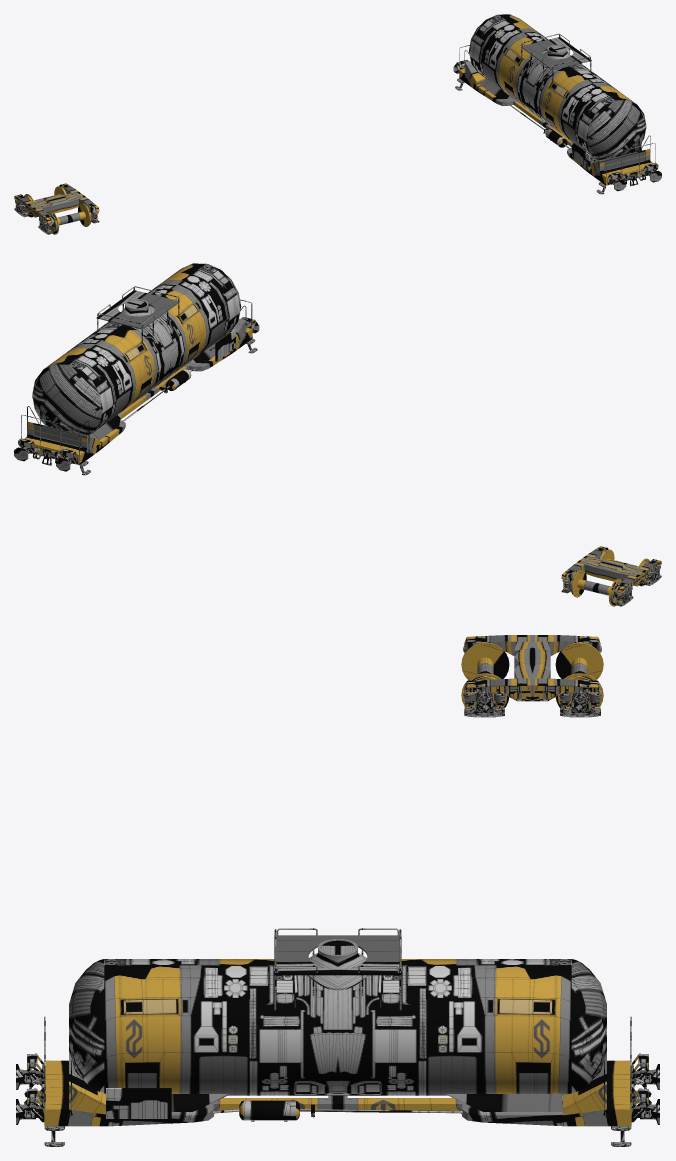
The model's file is tank 53m.fbx.
3 views of the same model, one above another, from view 1: azimuth 30°, elevation 25°; view 2: azimuth 150°, elevation 25°; view 3: azimuth 270°, elevation 25° (orthographic). The views are drawn at different scales.
Visible parts, largest first — view 1: Cylinder.006, Plane.009; view 2: Cylinder.006, Plane.009; view 3: Cylinder.006, Plane.009.
Boxes of the visible parts, left/top/right/bottom form: Cylinder.006: left=453, top=14, right=661, bottom=194; Plane.009: left=14, top=183, right=99, bottom=234; Cylinder.006: left=14, top=263, right=259, bottom=475; Plane.009: left=561, top=546, right=661, bottom=606; Cylinder.006: left=16, top=928, right=659, bottom=1146; Plane.009: left=461, top=635, right=603, bottom=717.
Bounding box in the file's own units: 2253 × 414 × 1233.
